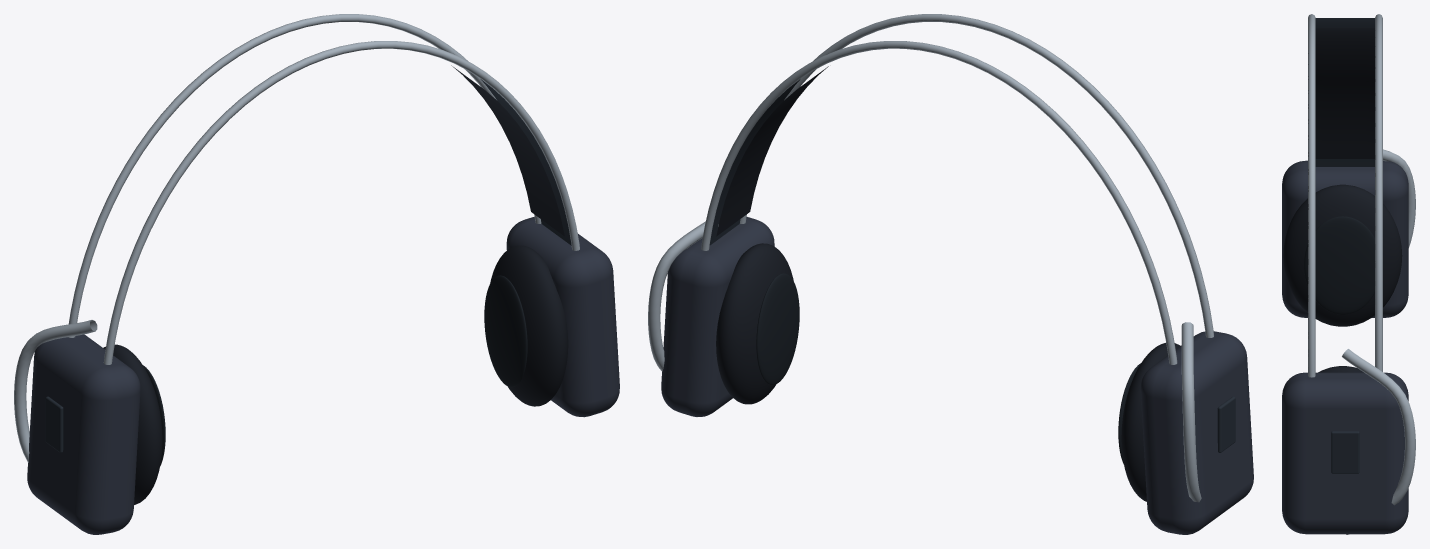
File: atelier_headphones.glb
3 renders of one model, left to right at view 1: azimuth 30°, elevation 25°; view 2: azimuth 150°, elevation 25°; view 3: azimuth 270°, elevation 25°, orthographic. The views are drawn at different scales.
Parts seen in each view (by area): view 1: headphones:HeadphonesV5_SatinShell, headphones:Atelier_BrushedSteel, headphones:HeadphonesV5_LeatherCushion, headphones:Atelier_SoftRubber, headphones:Atelier_AnodizedMetal; view 2: headphones:HeadphonesV5_SatinShell, headphones:Atelier_BrushedSteel, headphones:HeadphonesV5_LeatherCushion, headphones:Atelier_SoftRubber, headphones:Atelier_AnodizedMetal; view 3: headphones:HeadphonesV5_SatinShell, headphones:HeadphonesV5_LeatherCushion, headphones:Atelier_BrushedSteel, headphones:Atelier_SoftRubber, headphones:Atelier_AnodizedMetal.
Part boxes in pixels (bbox=[...]): headphones:HeadphonesV5_SatinShell: bbox=[27, 216, 619, 534]; headphones:Atelier_BrushedSteel: bbox=[14, 14, 579, 462]; headphones:HeadphonesV5_LeatherCushion: bbox=[103, 65, 568, 504]; headphones:Atelier_SoftRubber: bbox=[143, 275, 527, 466]; headphones:Atelier_AnodizedMetal: bbox=[45, 79, 571, 452]; headphones:HeadphonesV5_SatinShell: bbox=[661, 217, 1253, 534]; headphones:Atelier_BrushedSteel: bbox=[648, 14, 1213, 502]; headphones:HeadphonesV5_LeatherCushion: bbox=[716, 66, 1180, 501]; headphones:Atelier_SoftRubber: bbox=[756, 273, 1140, 464]; headphones:Atelier_AnodizedMetal: bbox=[709, 79, 1235, 452]; headphones:HeadphonesV5_SatinShell: bbox=[1282, 160, 1408, 534]; headphones:HeadphonesV5_LeatherCushion: bbox=[1283, 28, 1402, 372]; headphones:Atelier_BrushedSteel: bbox=[1308, 14, 1415, 534]; headphones:Atelier_SoftRubber: bbox=[1304, 216, 1374, 314]; headphones:Atelier_AnodizedMetal: bbox=[1315, 18, 1374, 473].
Size of the model in its own units: 0.2234 by 0.1661 by 0.0518.
